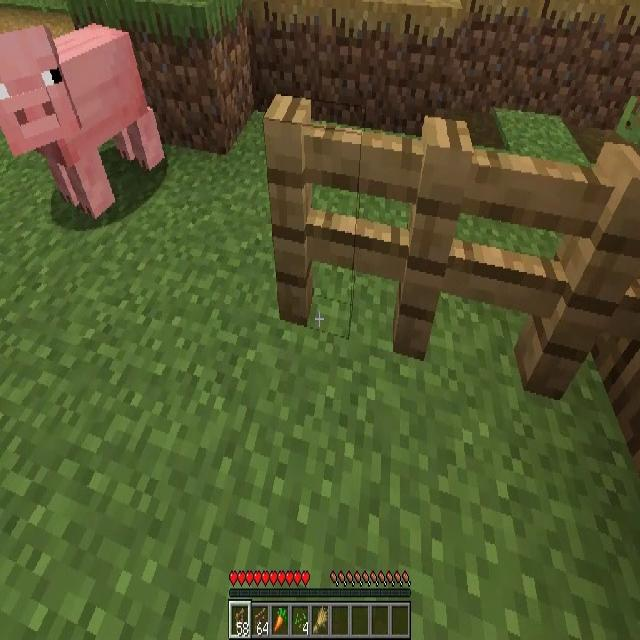pig: (0, 21, 165, 217)
